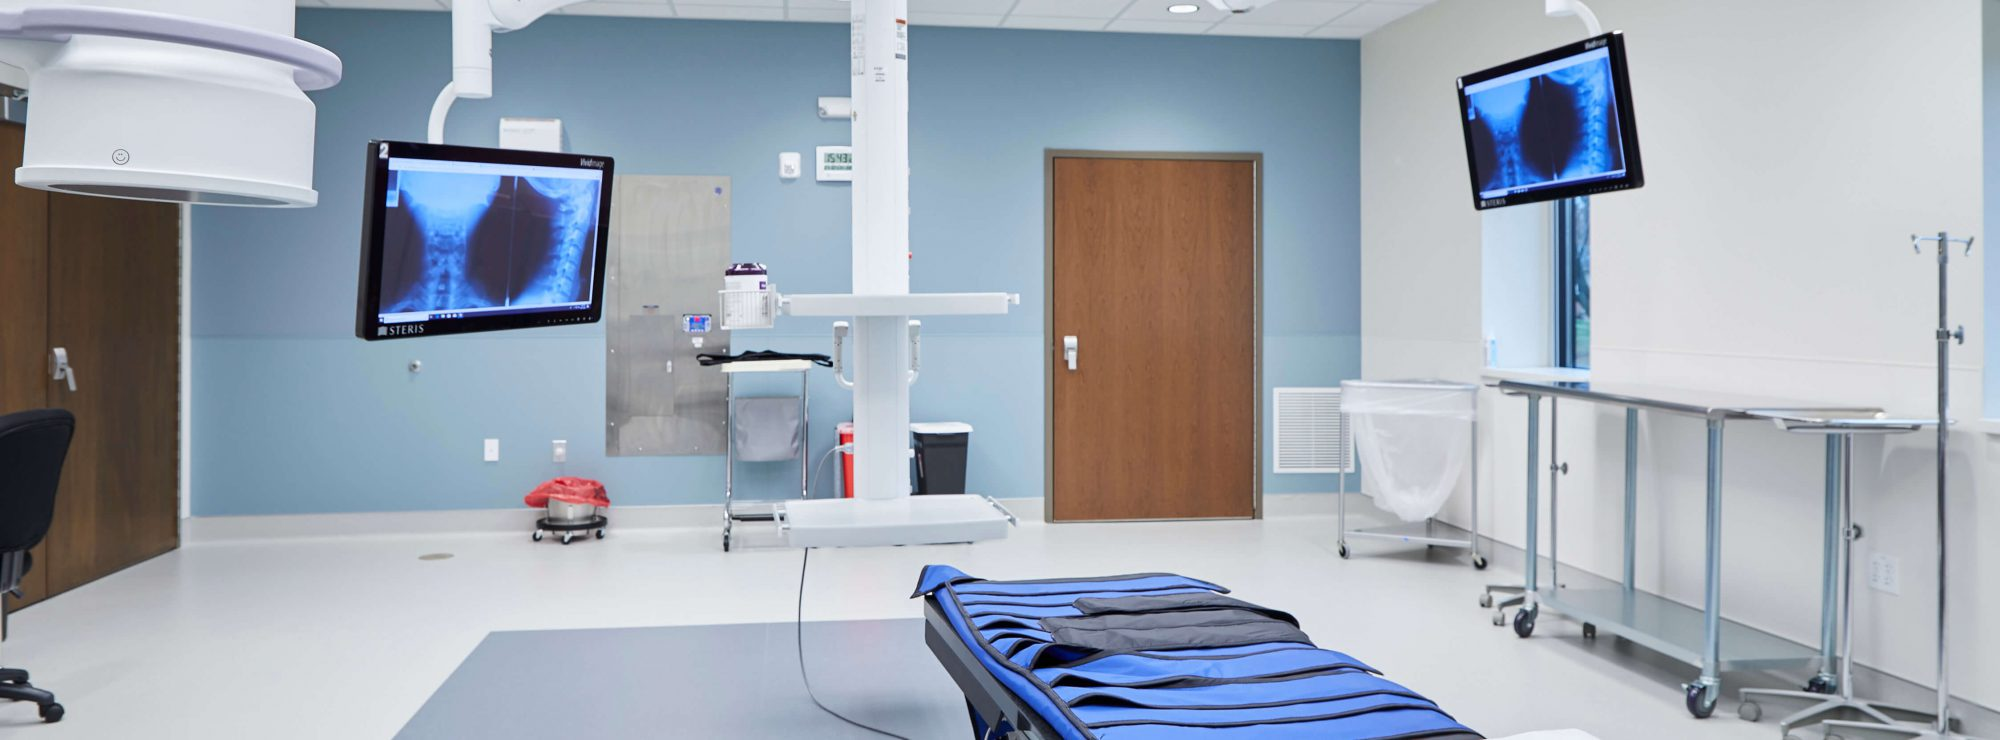TV: (1454, 29, 1643, 209)
bedside_monitor: (349, 138, 617, 343)
chair: (1, 404, 78, 740)
door_handle: (43, 339, 89, 390), (1059, 330, 1084, 373)
iv_pole: (1901, 232, 1974, 716)
operating_bed: (918, 560, 1497, 740)
table: (1747, 406, 1957, 734), (1485, 364, 1592, 586)
utility_cart: (1503, 367, 1888, 729), (712, 348, 841, 551)
waste_bin: (1335, 376, 1487, 575), (518, 461, 617, 558), (903, 415, 980, 492)
